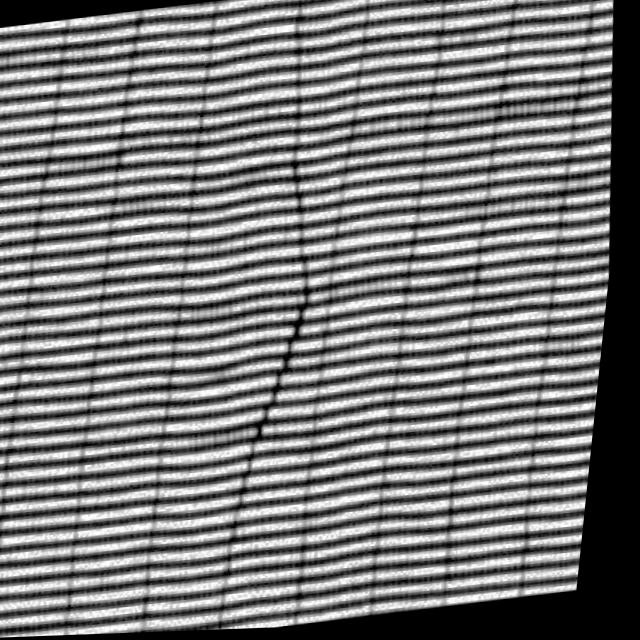Stitch: (162, 99, 400, 548)
